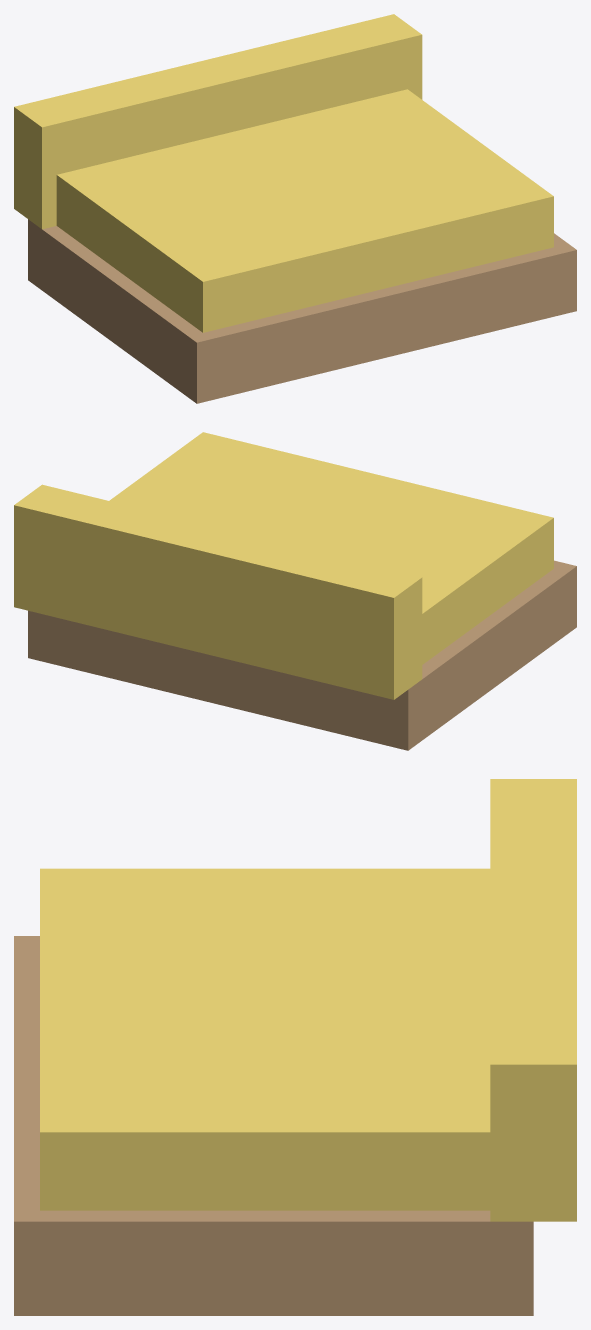
The model's file is Prop_Pet_AMF_Bed_V13.glb.
3 views of the same model, one above another, from view 1: azimuth 30°, elevation 25°; view 2: azimuth 150°, elevation 25°; view 3: azimuth 270°, elevation 25° (orthographic). The views are drawn at different scales.
Parts seen in each view (by area): view 1: Prop_Pet_AMF_Bed_V13; view 2: Prop_Pet_AMF_Bed_V13; view 3: Prop_Pet_AMF_Bed_V13.
Boxes of the visible parts, left/top/right/bottom form: Prop_Pet_AMF_Bed_V13: left=14, top=14, right=576, bottom=403; Prop_Pet_AMF_Bed_V13: left=14, top=432, right=576, bottom=750; Prop_Pet_AMF_Bed_V13: left=14, top=779, right=576, bottom=1315.
Size of the model in its own units: 0.78 by 0.32 by 0.65.
